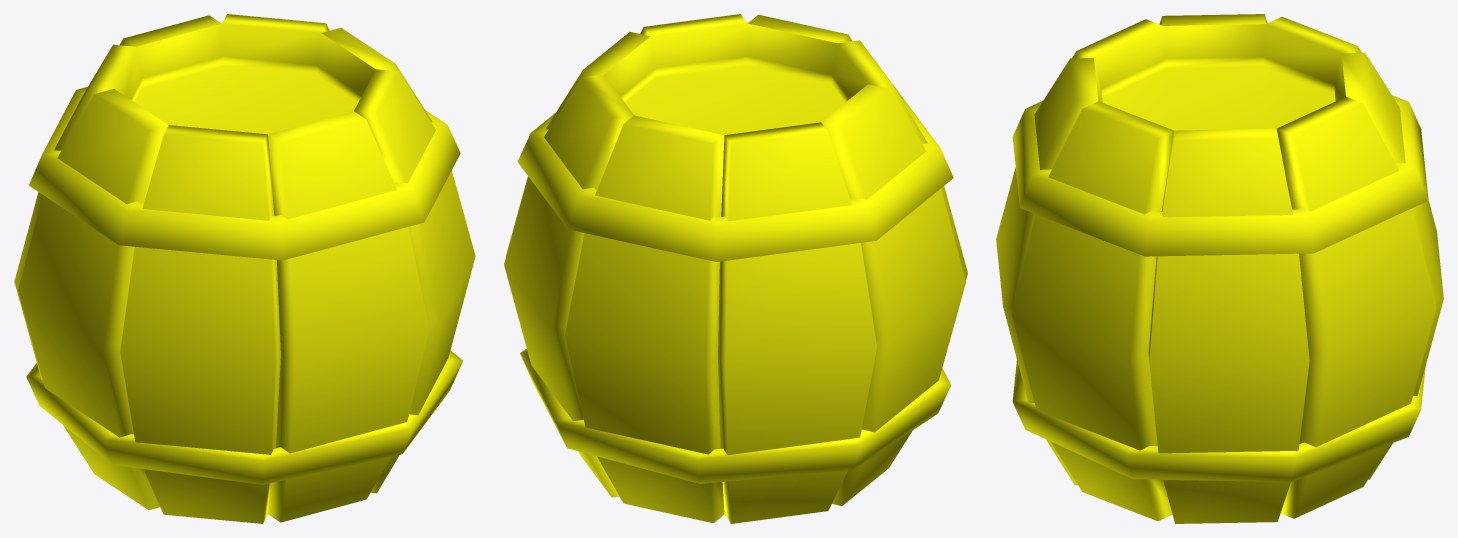
File: Barrel_1.fbx
3 views of the same model, side by side, from view 1: azimuth 30°, elevation 25°; view 2: azimuth 150°, elevation 25°; view 3: azimuth 270°, elevation 25° (orthographic).
Parts seen in each view (by area): view 1: Barrel_1; view 2: Barrel_1; view 3: Barrel_1.
Boxes of the visible parts, x1,y1,x2,y2 form: Barrel_1: [14, 14, 475, 523]; Barrel_1: [504, 14, 967, 523]; Barrel_1: [996, 14, 1443, 523].
Bounding box in the file's own units: 70.7 × 66.79 × 70.7.
